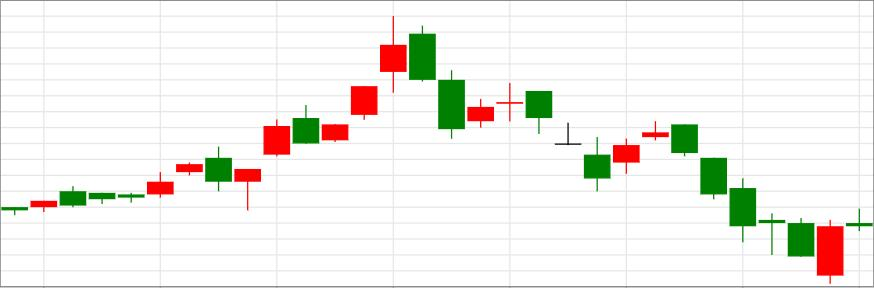bullish_engulfing_rise: (670, 124, 845, 283)
three_black_crows_fall: (583, 120, 758, 243)
